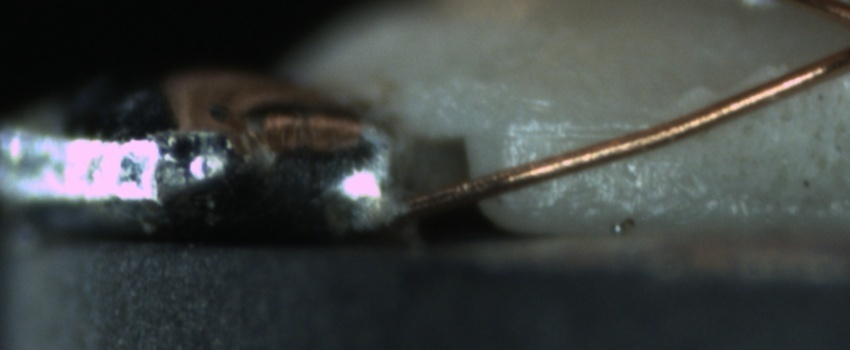DL: (508, 102, 654, 160)
